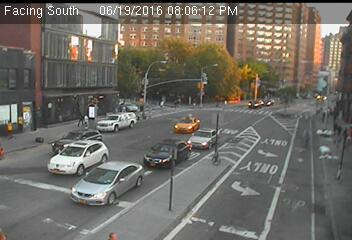neg: (26, 89, 55, 127), (144, 36, 169, 69), (159, 157, 183, 189), (267, 107, 291, 139), (201, 57, 225, 88), (213, 135, 234, 164), (32, 157, 53, 185), (250, 70, 270, 98), (101, 46, 118, 68), (57, 56, 73, 78)
pos: (77, 111, 91, 129), (72, 111, 84, 127), (158, 98, 165, 108), (173, 98, 180, 107)
